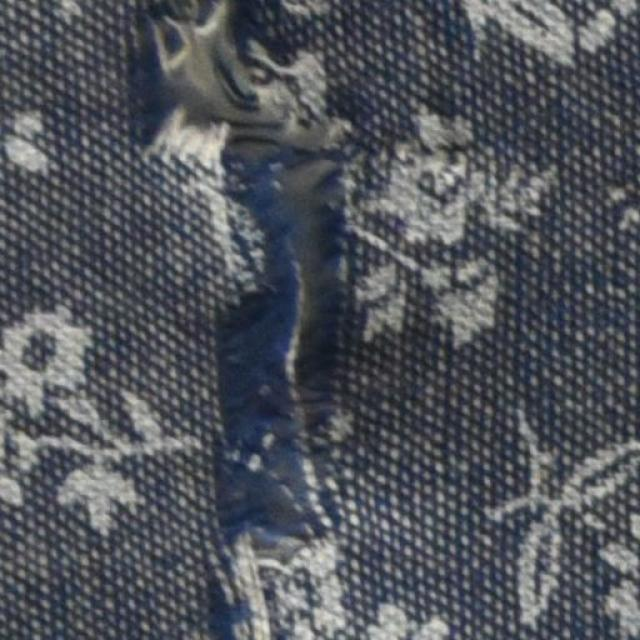Hole: (234, 115, 329, 336)
Snag: (146, 120, 336, 631), (131, 1, 337, 123)
